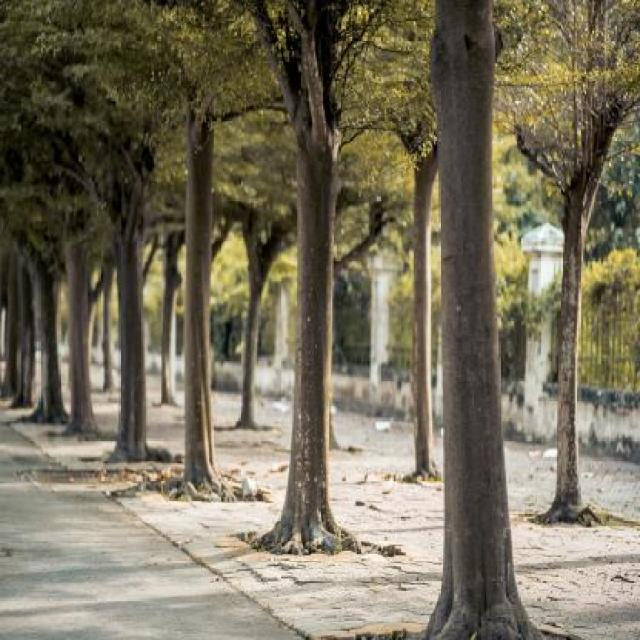tree trunk: (426, 18, 517, 625), (286, 86, 349, 552), (178, 113, 225, 487), (109, 173, 160, 472), (555, 173, 588, 524), (408, 149, 439, 486), (61, 210, 99, 433), (237, 190, 269, 448)
